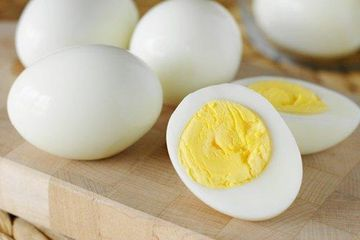Telur: (4, 40, 165, 169), (175, 90, 286, 207), (258, 60, 351, 152), (140, 7, 250, 83)
